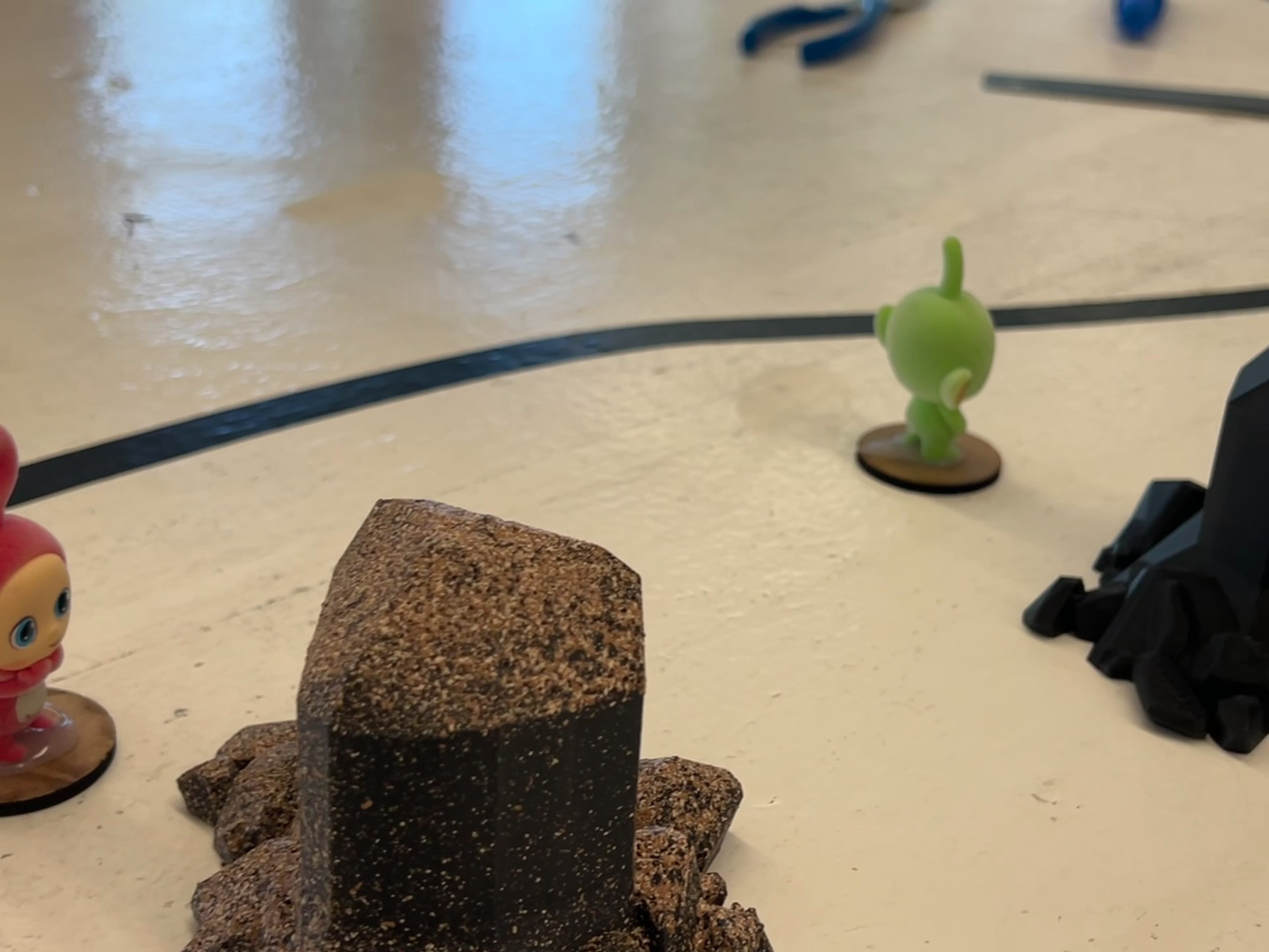teletubby: (874, 237, 994, 463), (0, 426, 71, 766)
